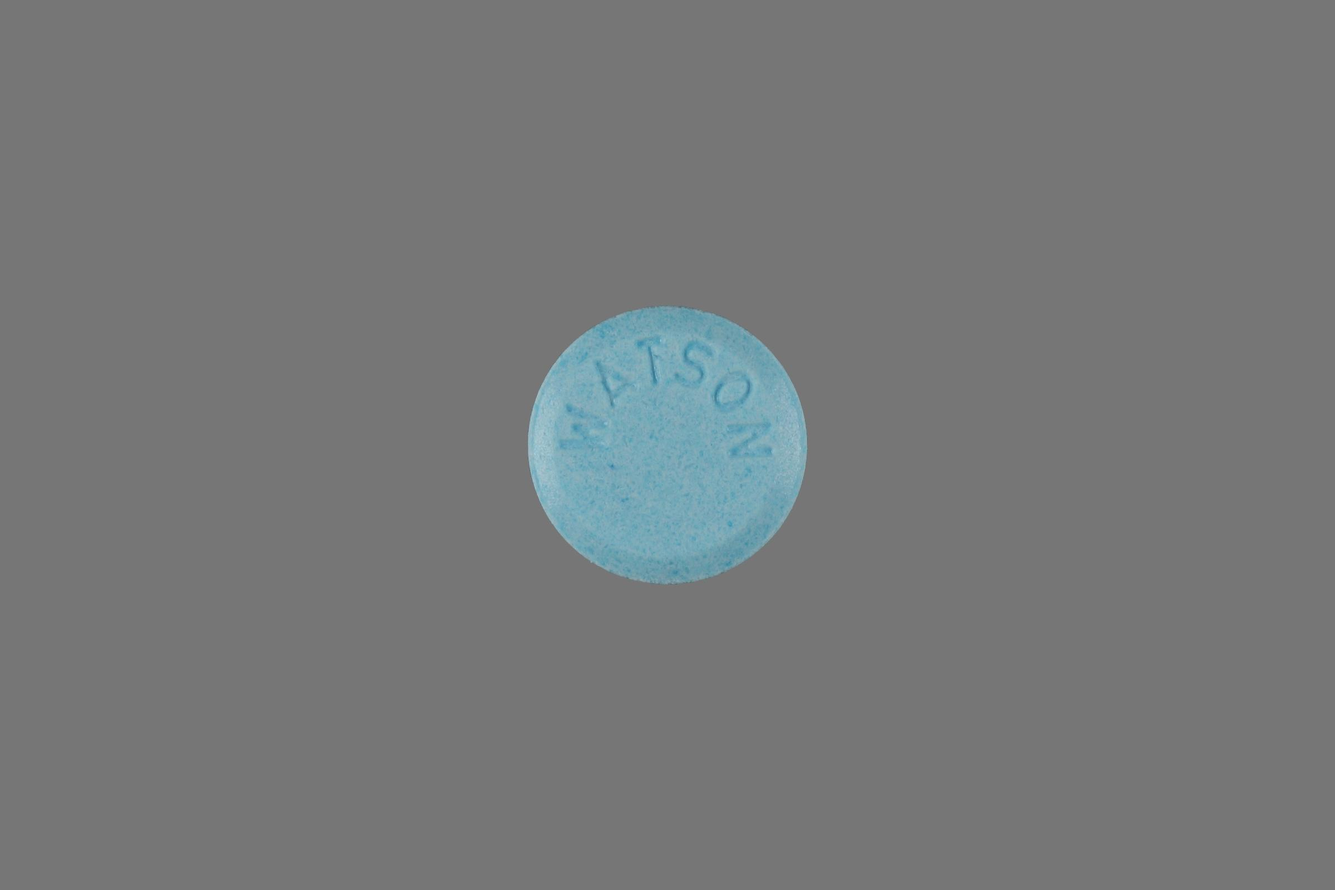Pill: (514, 297, 821, 603)
